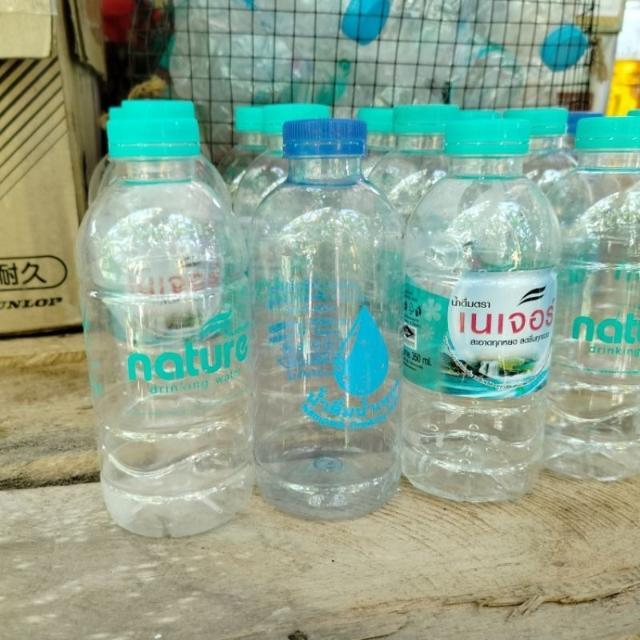PET Bottle: (59, 89, 264, 552), (245, 110, 415, 537), (406, 117, 538, 524), (550, 97, 638, 504)
